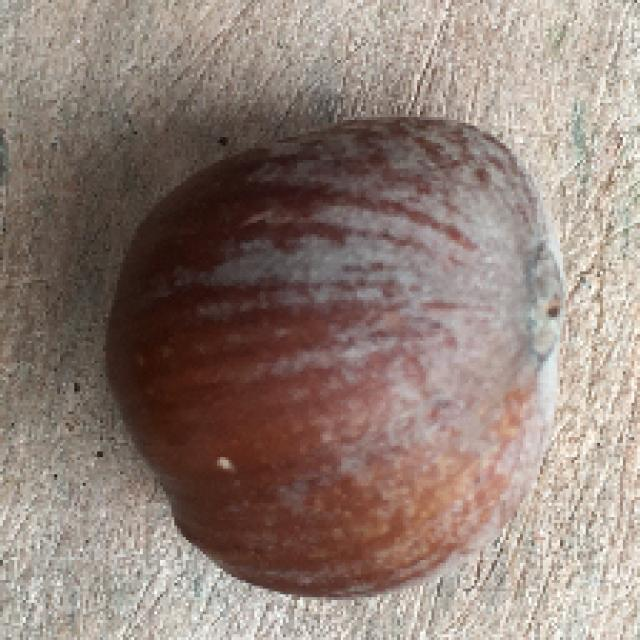qualityHazelnut: (96, 110, 566, 598)
